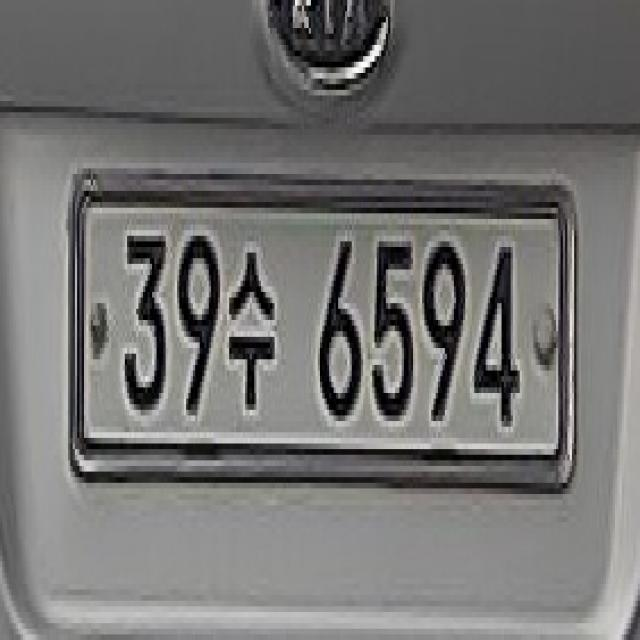3: (120, 230, 168, 416)
4: (470, 236, 520, 427)
5: (368, 224, 415, 426)
6: (311, 236, 363, 421)
9: (420, 230, 467, 427), (172, 230, 218, 427)
license_plate: (66, 168, 576, 494)
su: (225, 236, 277, 421)
